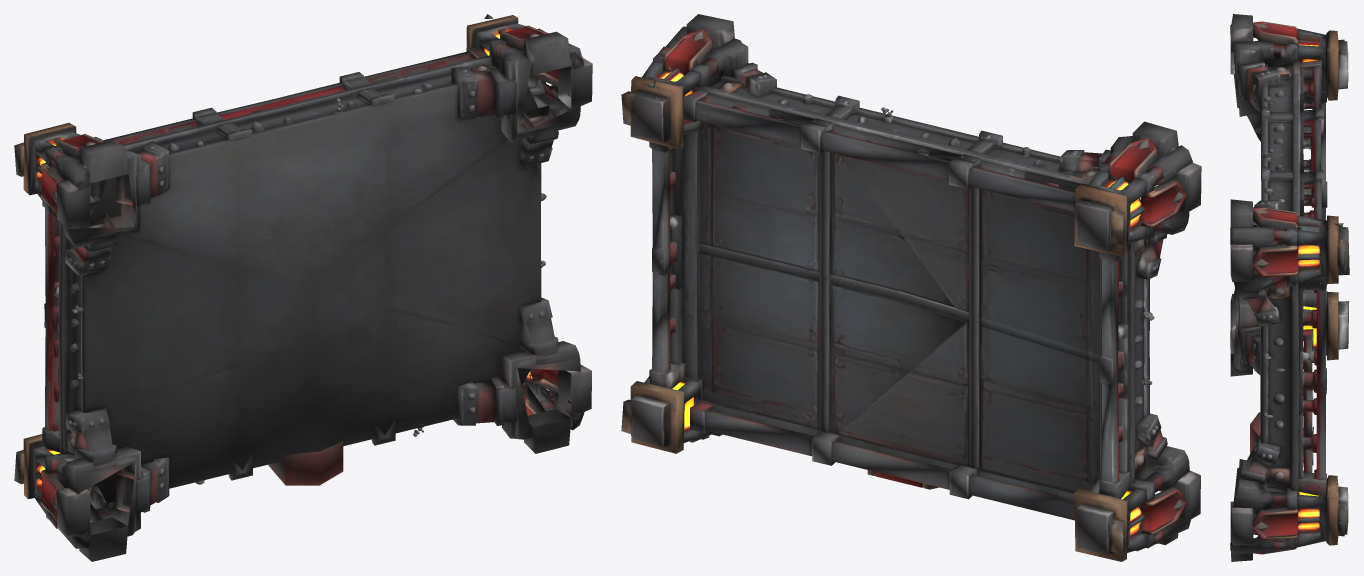
The picture shows the model from 3 angles, left to right: view 1: azimuth 30°, elevation 25°; view 2: azimuth 150°, elevation 25°; view 3: azimuth 270°, elevation 25°; orthographic projection. The views are drawn at different scales.
Parts seen in each view (by area): view 1: SM_Tripo_InfernoIronBridge_LOD0; view 2: SM_Tripo_InfernoIronBridge_LOD0; view 3: SM_Tripo_InfernoIronBridge_LOD0.
Boxes of the visible parts, x1,y1,x2,y2 form: SM_Tripo_InfernoIronBridge_LOD0: (14,14,592,561); SM_Tripo_InfernoIronBridge_LOD0: (621,14,1201,561); SM_Tripo_InfernoIronBridge_LOD0: (1230,14,1349,561).
Size of the model in its own units: 10.87 by 8.05 by 2.5.
1 material, 1 textured.
